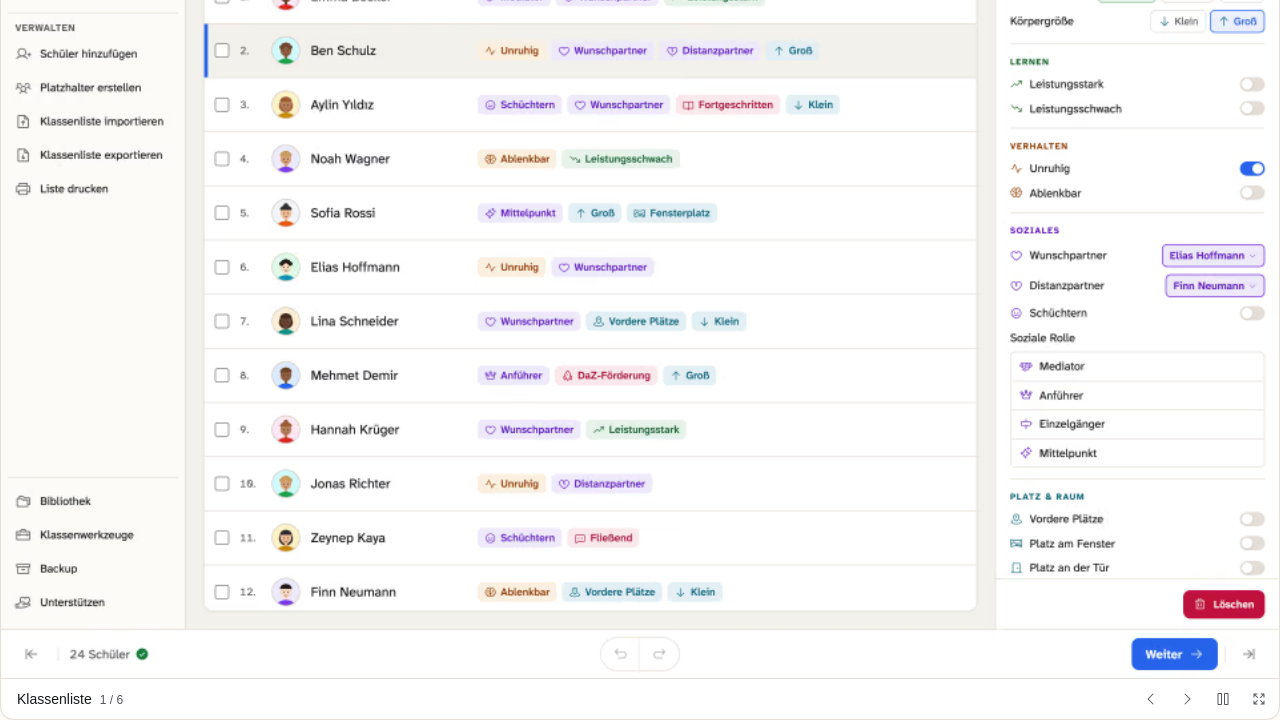
HeroMockup › opens the slide on screen enlarged
The image size is (1280, 720).
(page scrolled)
Click the button named "Vorschau vergrößern" at [1259, 699], box [1243,683,1275,715]
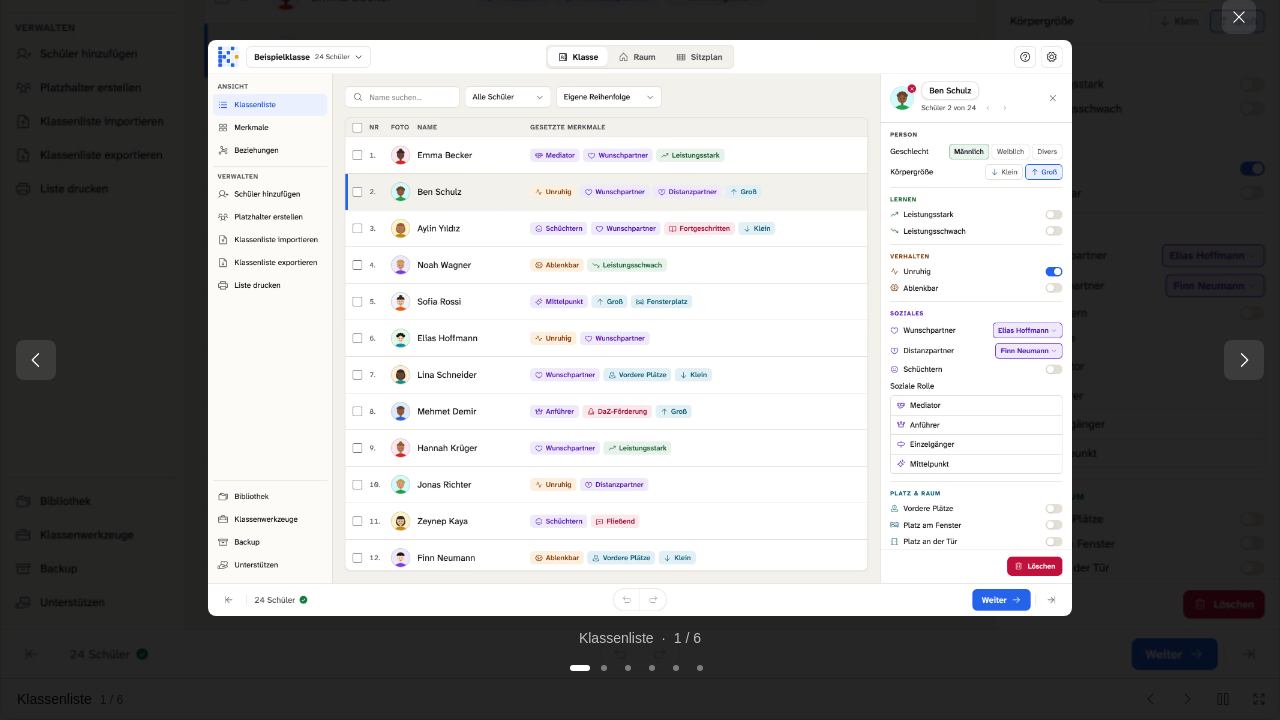
Now the dialog "Klassenliste · 1 / 6" is shown, box [208,40,1072,680]
